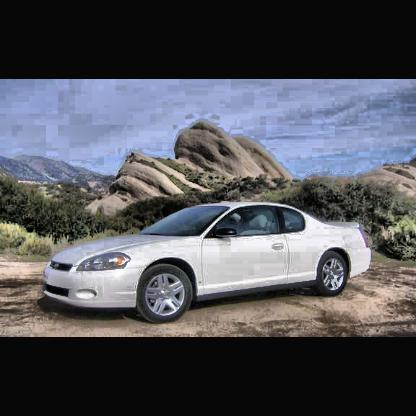Chevrolet Monte Carlo Coupe 2007: (45, 201, 375, 326)
